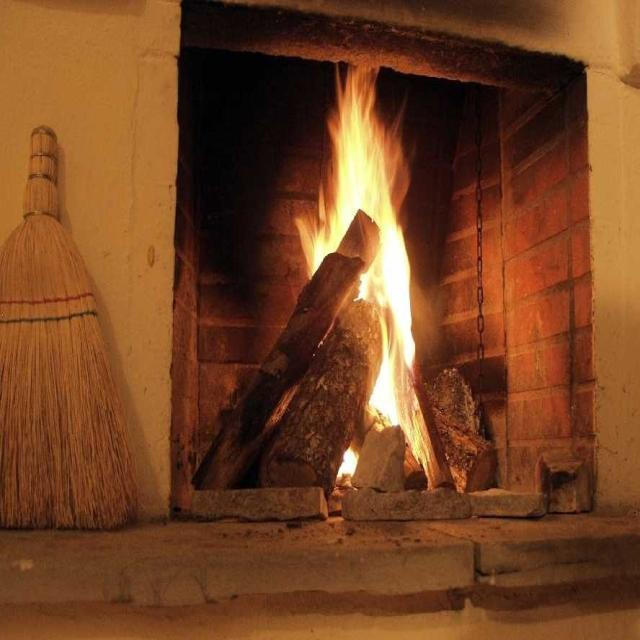Fire: (323, 96, 397, 207), (380, 237, 416, 353), (374, 371, 420, 434)
